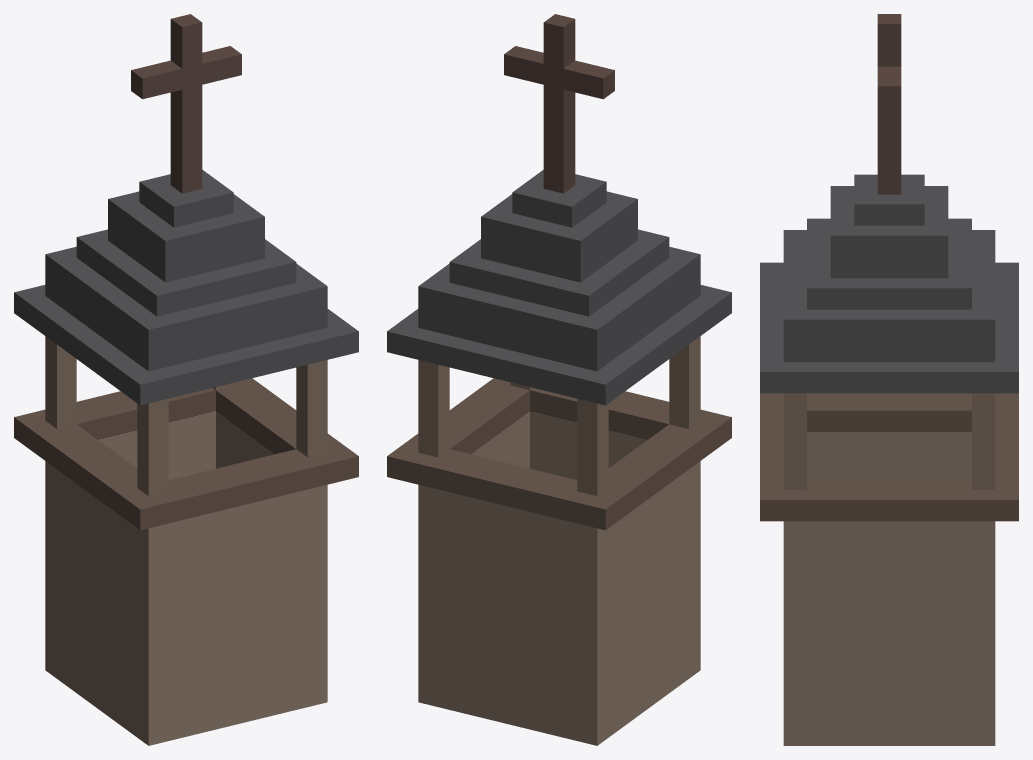
The model's file is roof_bell_tower.fbx.
3 views of the same model, side by side, from view 1: azimuth 30°, elevation 25°; view 2: azimuth 150°, elevation 25°; view 3: azimuth 270°, elevation 25° (orthographic). The views are drawn at different scales.
Visible parts, largest first — view 1: roof_bell_tower_0; view 2: roof_bell_tower_0; view 3: roof_bell_tower_0.
Part boxes in pixels (bbox=[...]): roof_bell_tower_0: bbox=[14, 14, 358, 745]; roof_bell_tower_0: bbox=[387, 14, 731, 745]; roof_bell_tower_0: bbox=[760, 14, 1018, 745].
Bounding box in the file's own units: 1100 × 1100 × 3200.
